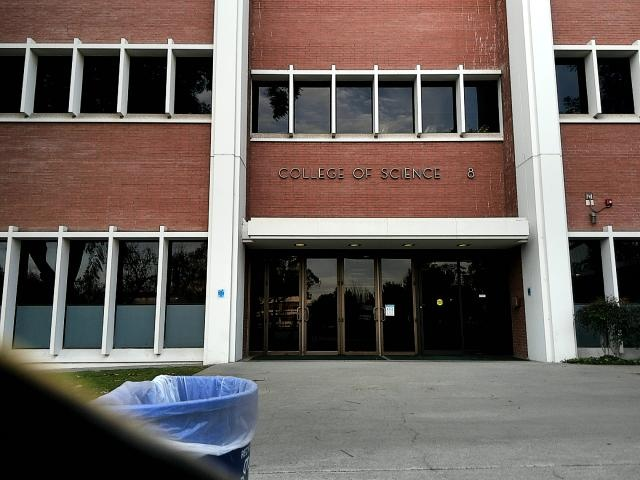trashcan_open: (96, 372, 256, 480)
